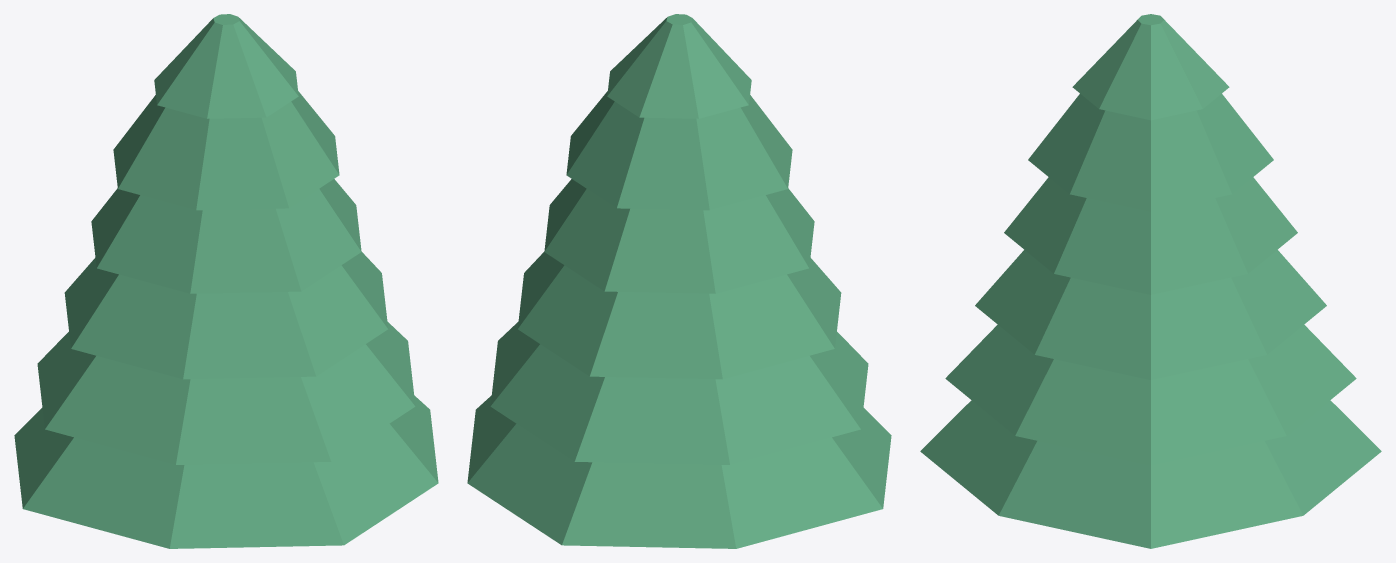
The model's file is Tree1, Short_Fat2.fbx.
The picture shows the model from 3 angles, left to right: view 1: azimuth 30°, elevation 25°; view 2: azimuth 150°, elevation 25°; view 3: azimuth 270°, elevation 25°; orthographic projection.
Parts seen in each view (by area): view 1: Pine Tree; view 2: Pine Tree; view 3: Pine Tree.
Boxes of the visible parts, bbox=[...] form: Pine Tree: bbox=[14, 14, 438, 548]; Pine Tree: bbox=[467, 14, 891, 548]; Pine Tree: bbox=[920, 14, 1381, 548].
Size of the model in its own units: 206 by 239 by 206.
